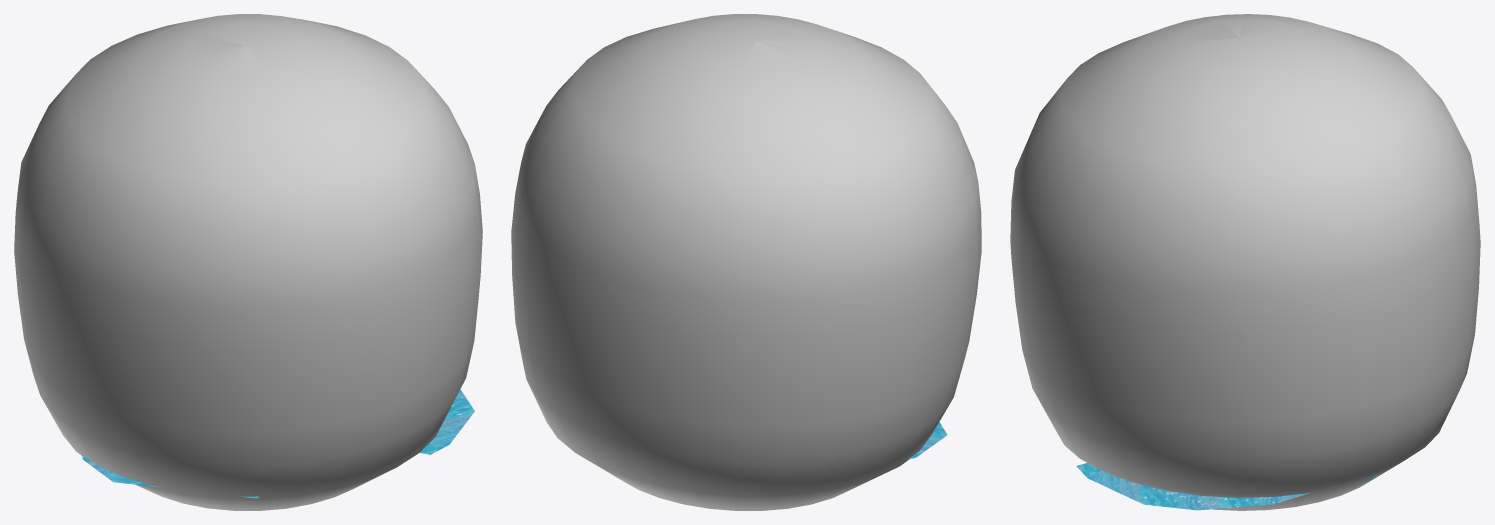
File: pref_sce_lobby_newcity_online_lv3.fbx
The picture shows the model from 3 angles, left to right: view 1: azimuth 30°, elevation 25°; view 2: azimuth 150°, elevation 25°; view 3: azimuth 270°, elevation 25°; orthographic projection.
Visible parts, largest first — view 1: mat_newcity_skybox02_lv3, sm_newcity_groundisland02_sea01b_lv3; view 2: mat_newcity_skybox02_lv3; view 3: mat_newcity_skybox02_lv3, sm_newcity_groundisland02_sea01b_lv3.
Boxes of the visible parts, x1,y1,x2,y2 form: mat_newcity_skybox02_lv3: [14, 14, 482, 510]; sm_newcity_groundisland02_sea01b_lv3: [82, 389, 474, 498]; mat_newcity_skybox02_lv3: [511, 14, 981, 510]; mat_newcity_skybox02_lv3: [1010, 14, 1480, 510]; sm_newcity_groundisland02_sea01b_lv3: [1076, 463, 1312, 510].
Bounding box in the file's own units: 1150 × 1167 × 1150.
122 materials, 72 textured.
